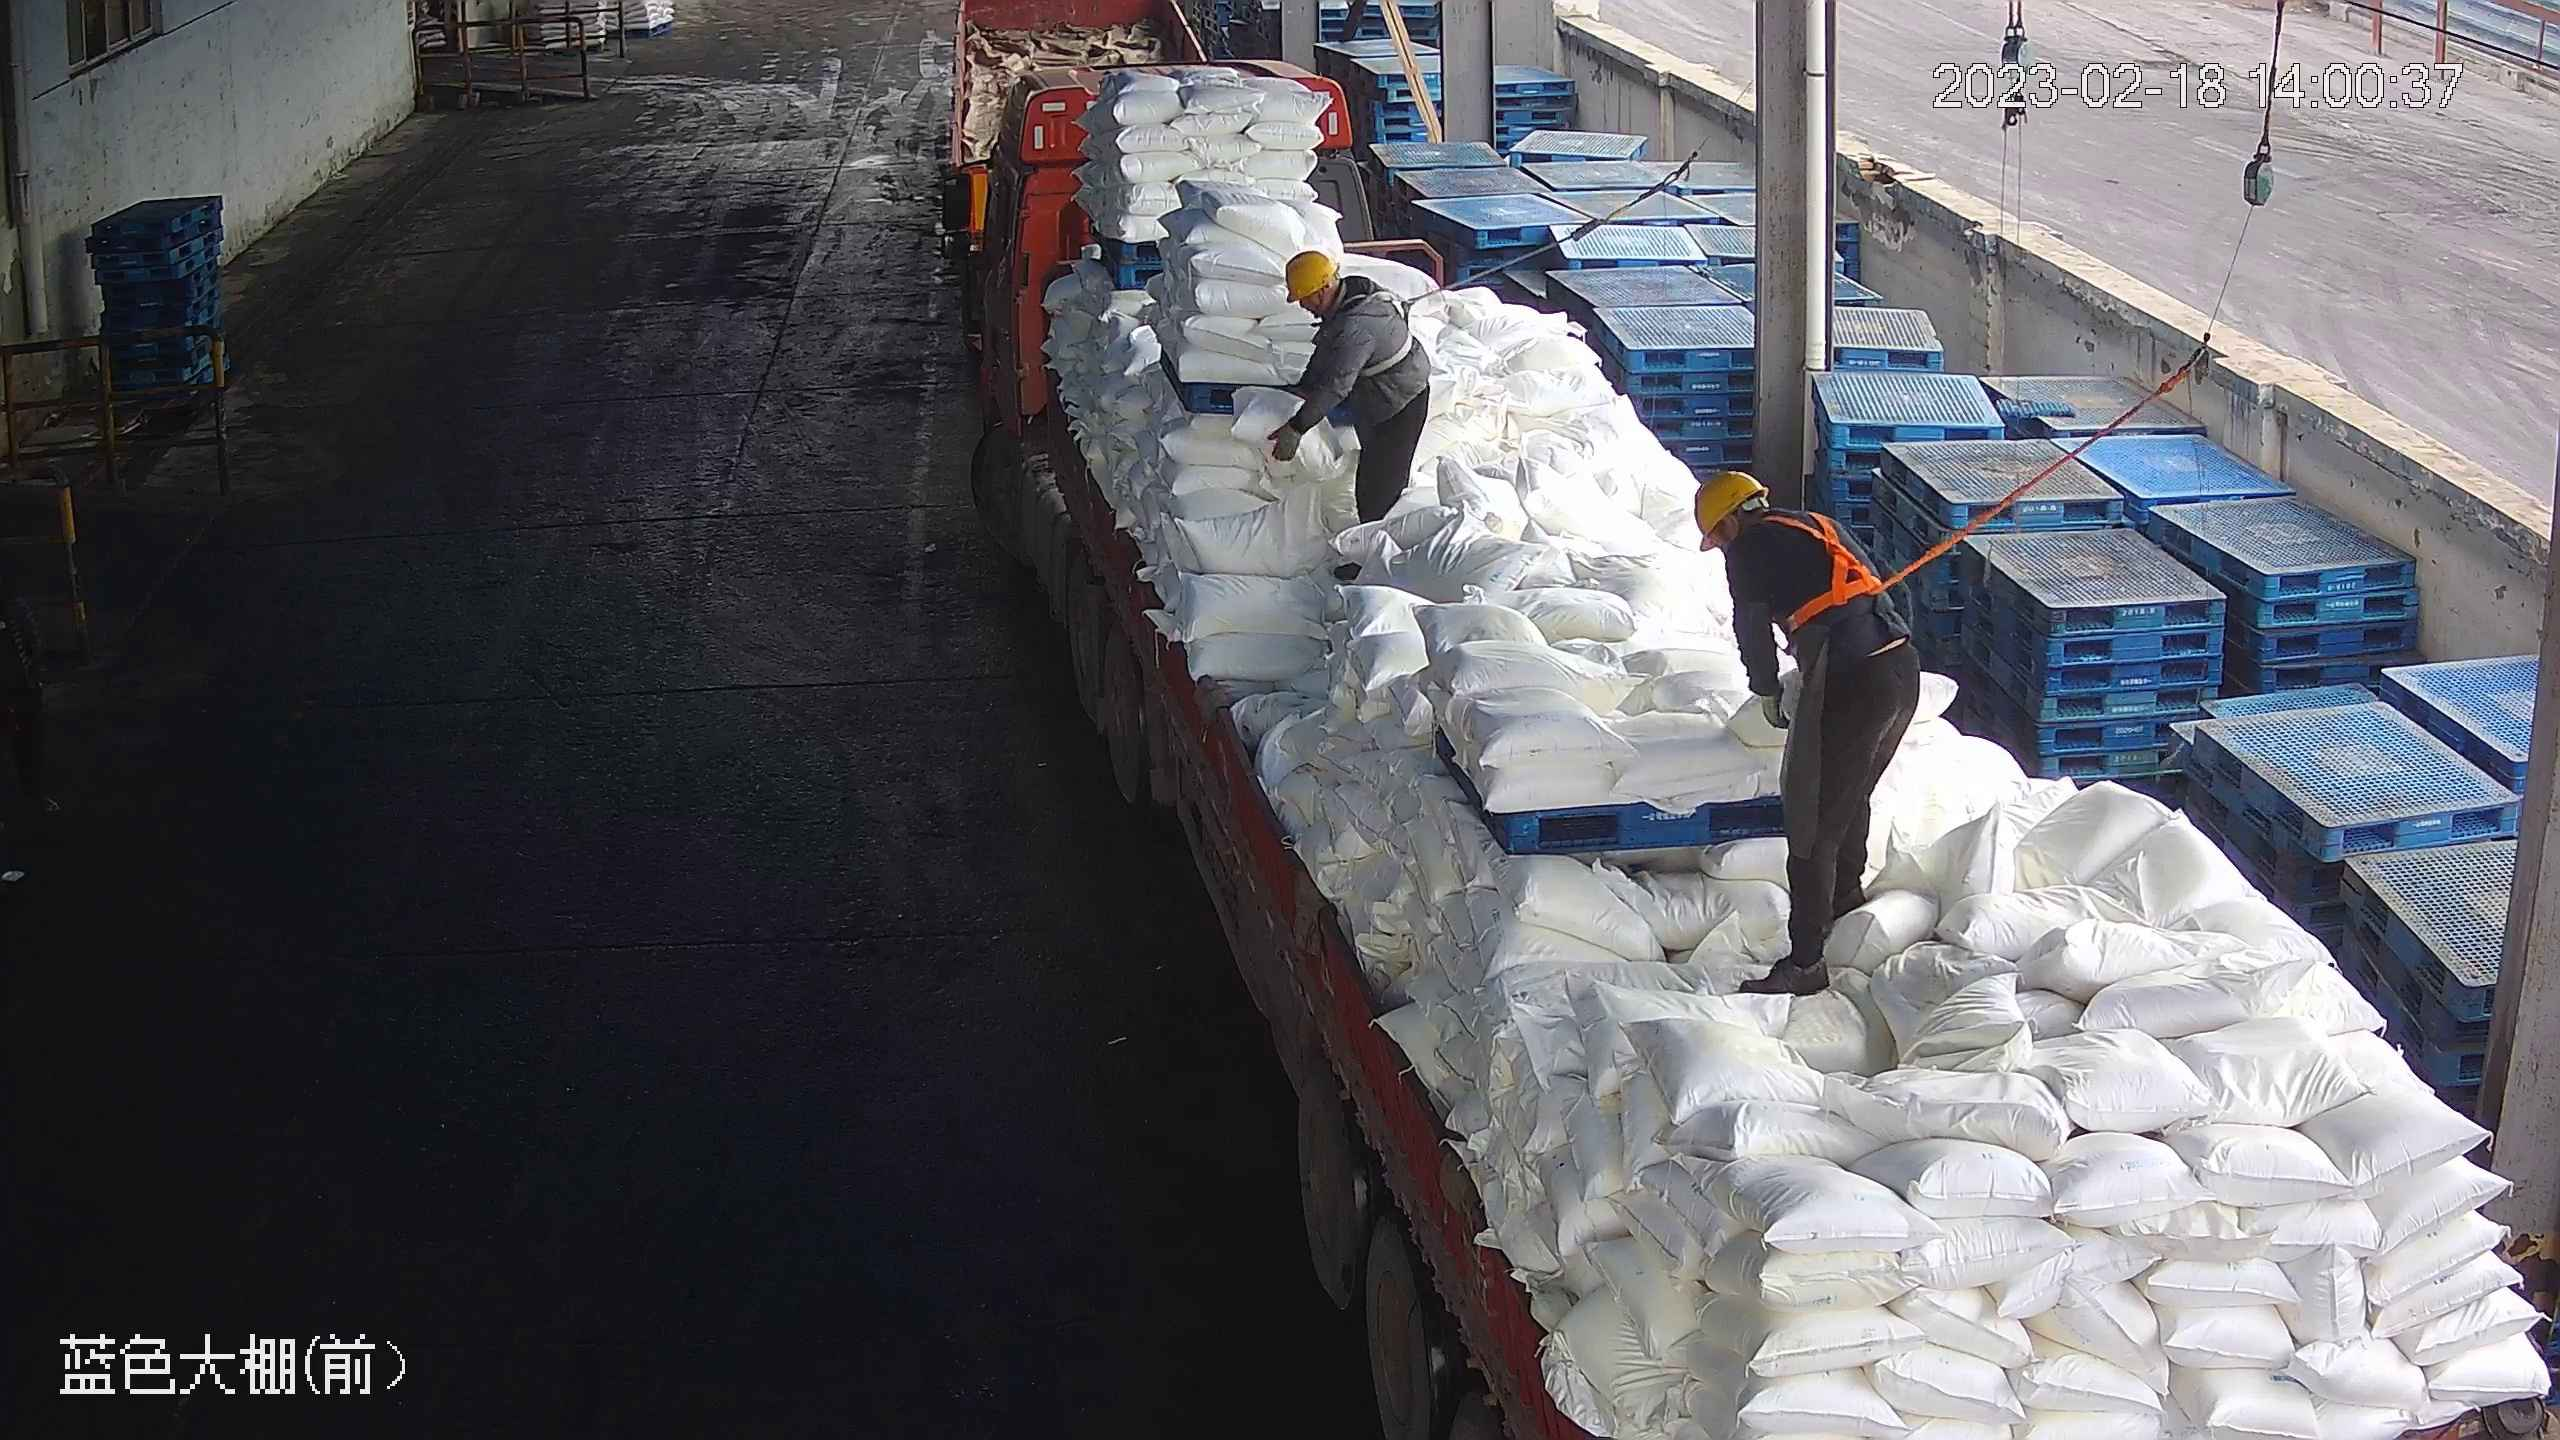belt: (1756, 503, 1900, 640), (1337, 278, 1435, 377)
head: (1691, 467, 1855, 610), (1279, 251, 1401, 369)
helmet: (1693, 466, 1766, 535), (1284, 249, 1338, 303)
people: (1687, 464, 1923, 989), (1267, 247, 1437, 574)
truck: (938, 65, 2545, 1440), (1686, 464, 1930, 992)
